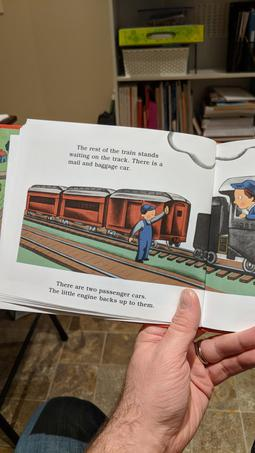text block: (41, 272, 158, 309), (61, 141, 167, 177)
